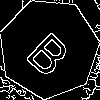B: (24, 23, 79, 80)
